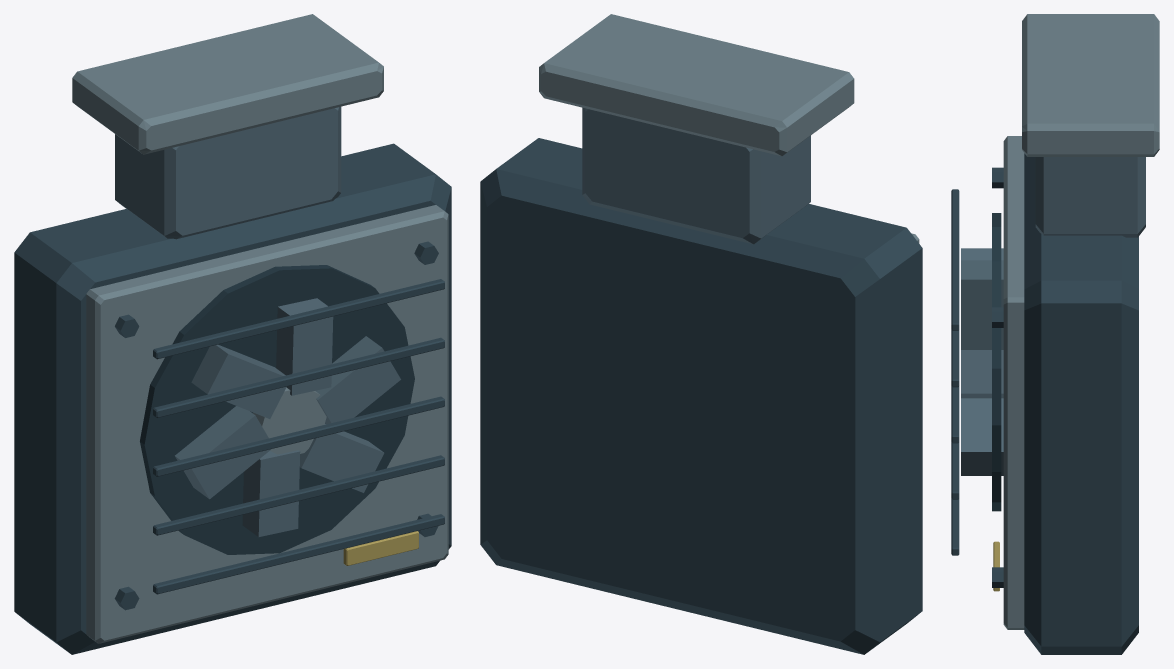
Rendered from 03_VentUnit.obj.
3 views of the same model, side by side, from view 1: azimuth 30°, elevation 25°; view 2: azimuth 150°, elevation 25°; view 3: azimuth 270°, elevation 25° (orthographic). The views are drawn at different scales.
Bounding box in the file's own units: 1.9 × 2.41 × 0.9075.
